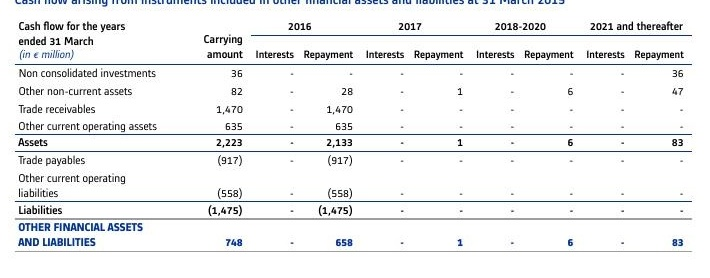table: (0, 0, 710, 278)
